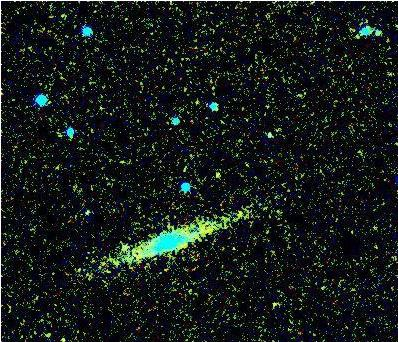star: (203, 158, 233, 188)
